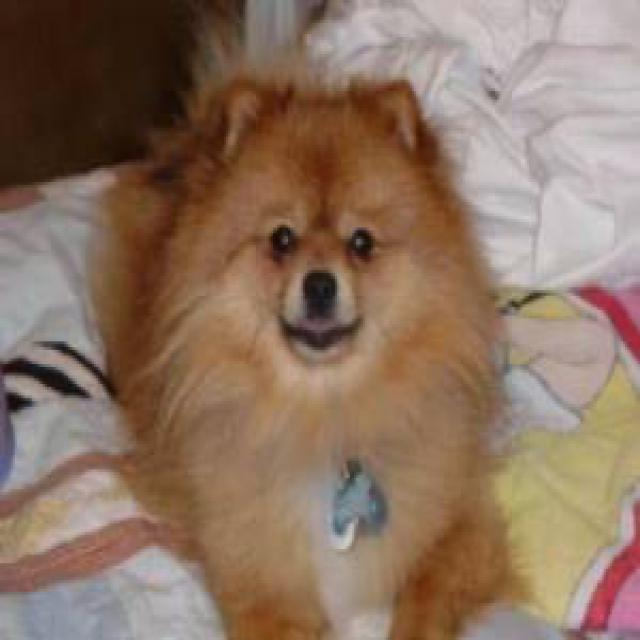dog: (207, 77, 424, 392)
